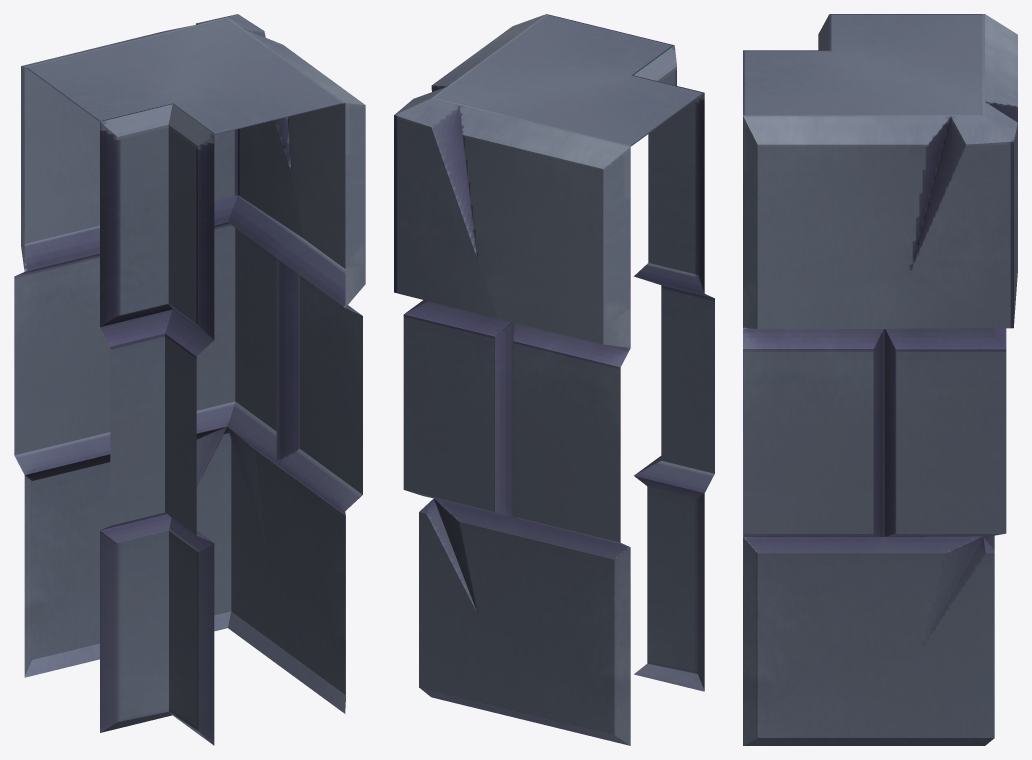
Rendered from wall6.fbx.
The picture shows the model from 3 angles, left to right: view 1: azimuth 30°, elevation 25°; view 2: azimuth 150°, elevation 25°; view 3: azimuth 270°, elevation 25°; orthographic projection. The views are drawn at different scales.
Visible parts, largest first — view 1: ModularAssetsDisplay.011; view 2: ModularAssetsDisplay.011; view 3: ModularAssetsDisplay.011.
Part boxes in pixels (x1,y1,x2,y2): ModularAssetsDisplay.011: [14, 14, 365, 745]; ModularAssetsDisplay.011: [394, 14, 714, 745]; ModularAssetsDisplay.011: [743, 14, 1017, 745].
Bounding box in the file's own units: 32.92 × 83.26 × 32.92.
